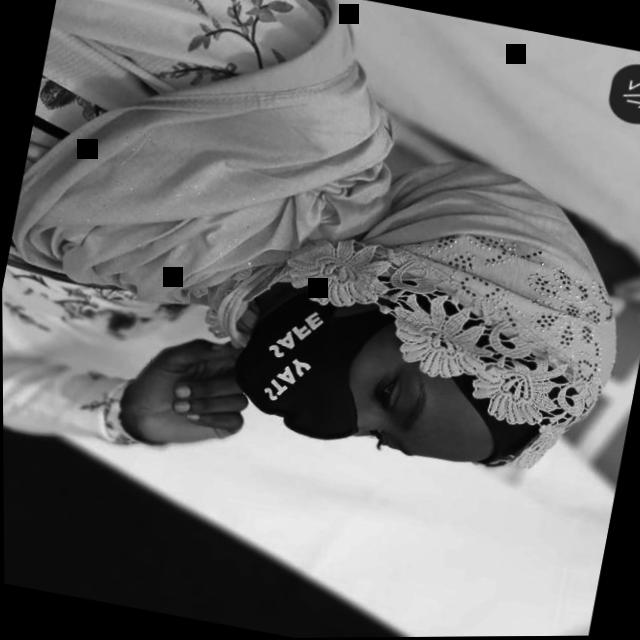Mask: (226, 279, 517, 476)
